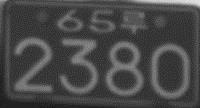0: (149, 43, 191, 99)
2: (13, 37, 54, 94)
3: (59, 37, 99, 95)
5: (88, 8, 115, 33)
6: (56, 8, 83, 32)
8: (104, 39, 145, 97)
루: (120, 9, 148, 34)
